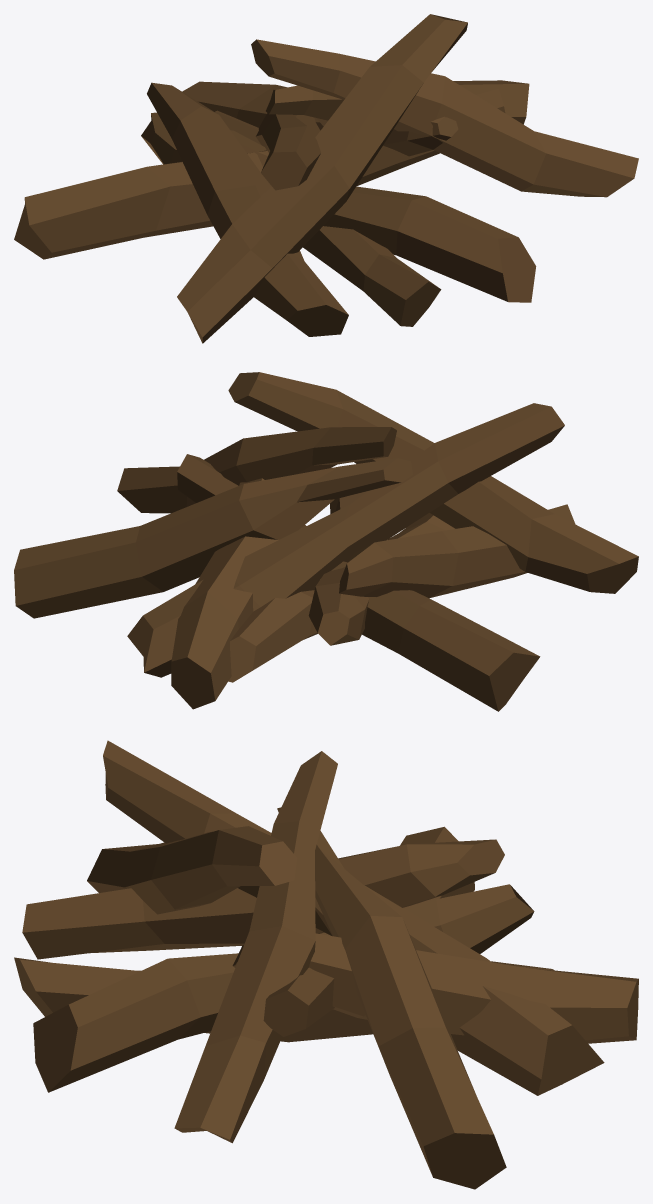
Rendered from Campfire.fbx.
3 views of the same model, one above another, from view 1: azimuth 30°, elevation 25°; view 2: azimuth 150°, elevation 25°; view 3: azimuth 270°, elevation 25° (orthographic). The views are drawn at different scales.
Visible parts, largest first — view 1: Campfire; view 2: Campfire; view 3: Campfire.
Boxes of the visible parts, x1,y1,x2,y2 form: Campfire: (14, 14, 638, 343); Campfire: (14, 372, 638, 711); Campfire: (14, 740, 638, 1189).
Bounding box in the file's own units: 95.13 × 39.43 × 84.6.
